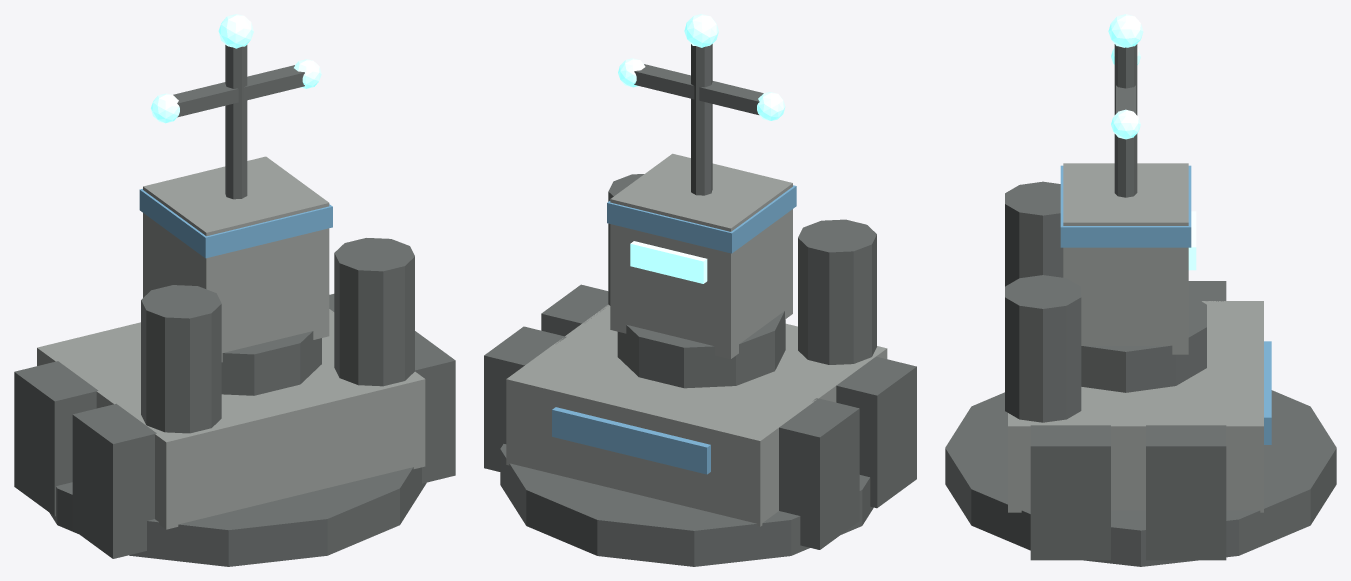
3 renders of one model, left to right at view 1: azimuth 30°, elevation 25°; view 2: azimuth 150°, elevation 25°; view 3: azimuth 270°, elevation 25°, orthographic. The views are drawn at different scales.
Visible parts, largest first — view 1: bunker, tower, foundation, power_L, power_R, buttress_2, buttress_0, tower_base, buttress_3, tower_band, mast, sensor_bar (+3 smaller); view 2: bunker, tower, foundation, power_L, buttress_0, buttress_2, tower_base, front_accent, tower_band, buttress_1, mast, sensor_bar (+5 smaller); view 3: bunker, foundation, tower, buttress_1, buttress_3, power_R, tower_base, power_L, tower_band, mast, mast_light, front_accent (+2 smaller).
Part boxes in pixels (<box>): bunker: <box>37,309,425,529</box>; tower: <box>143,156,329,362</box>; foundation: <box>49,467,426,566</box>; power_L: <box>141,285,221,433</box>; power_R: <box>334,238,414,386</box>; buttress_2: <box>72,403,156,558</box>; buttress_0: <box>14,361,98,516</box>; tower_base: <box>221,331,321,395</box>; buttress_3: <box>415,331,455,483</box>; tower_band: <box>139,188,332,258</box>; mast: <box>225,45,247,199</box>; sensor_bar: <box>173,65,304,117</box>; bunker: <box>506,305,887,526</box>; tower: <box>610,153,792,358</box>; foundation: <box>500,444,873,566</box>; power_L: <box>798,219,876,364</box>; buttress_0: <box>779,398,859,549</box>; buttress_2: <box>836,356,916,508</box>; tower_base: <box>617,311,785,388</box>; front_accent: <box>552,407,710,474</box>; tower_band: <box>607,185,796,253</box>; buttress_1: <box>484,326,566,471</box>; mast: <box>691,44,712,195</box>; sensor_bar: <box>634,64,763,114</box>; bunker: <box>1008,301,1263,512</box>; foundation: <box>945,390,1336,566</box>; tower: <box>1063,163,1188,354</box>; buttress_1: <box>1146,425,1226,560</box>; buttress_3: <box>1030,425,1110,560</box>; power_R: <box>1005,275,1081,422</box>; tower_base: <box>1081,294,1206,392</box>; power_L: <box>1005,181,1063,286</box>; tower_band: <box>1060,165,1191,247</box>; mast: <box>1114,44,1137,197</box>; mast_light: <box>1108,14,1143,47</box>; front_accent: <box>1264,341,1271,444</box>.
Bounding box in the file's own units: 1.56 × 2.06 × 1.56.
